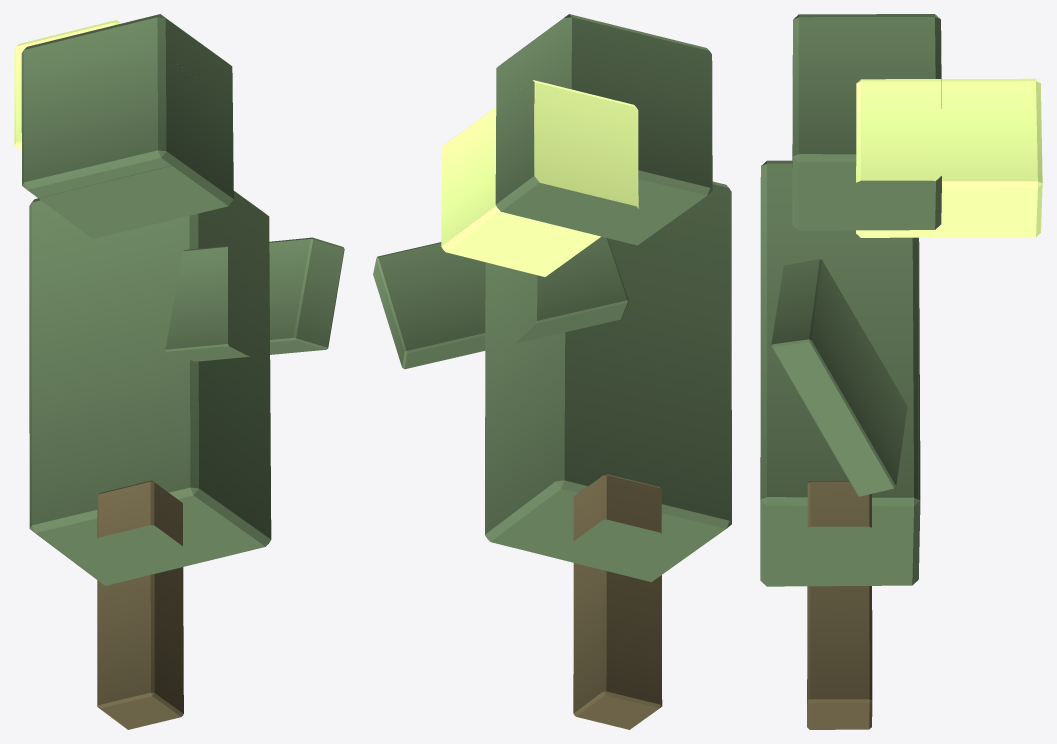
The model's file is foliage_shooter.glb.
3 views of the same model, side by side, from view 1: azimuth 30°, elevation 25°; view 2: azimuth 150°, elevation 25°; view 3: azimuth 270°, elevation 25° (orthographic). The views are drawn at different scales.
Visible parts, largest first — view 1: Body, Head, Stem, Leaf, Pod; view 2: Body, Head, Pod, Leaf, Stem; view 3: Body, Pod, Head, Leaf, Stem.
Boxes of the visible parts, bbox=[...] form: Body: bbox=[29, 165, 271, 585]; Head: bbox=[21, 14, 233, 238]; Stem: bbox=[97, 480, 183, 729]; Leaf: bbox=[165, 237, 344, 361]; Pod: bbox=[14, 20, 121, 150]; Body: bbox=[485, 181, 731, 581]; Head: bbox=[495, 14, 712, 245]; Pod: bbox=[441, 80, 638, 276]; Leaf: bbox=[373, 236, 628, 369]; Stem: bbox=[573, 473, 662, 729]; Body: bbox=[760, 160, 920, 586]; Pod: bbox=[856, 78, 1042, 237]; Head: bbox=[792, 14, 941, 230]; Leaf: bbox=[771, 259, 907, 496]; Stem: bbox=[807, 480, 872, 729].
Bounding box in the file's own units: 0.6459 × 1.36 × 0.519.
